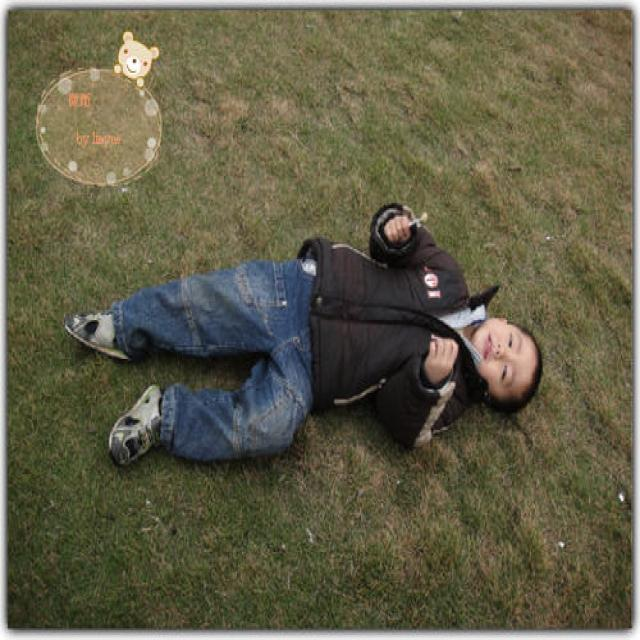down: (60, 196, 545, 474)
